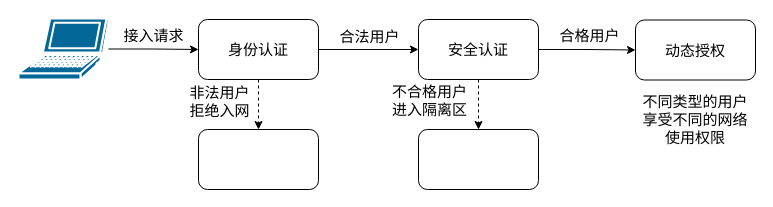
This 773x207 diagram has some shape labels left out. The shapes that lost their labels are listed below. From the top down, each one's box as (x1, y1, x2, y2) in pixels, then its label:
(198, 128, 318, 190): 认证失败
(418, 128, 538, 190): 隔离区
